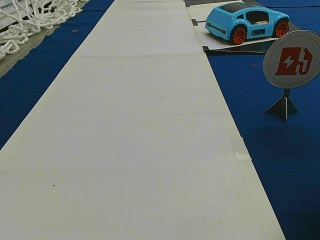battery: (263, 30, 318, 90)
car: (205, 3, 291, 43)
